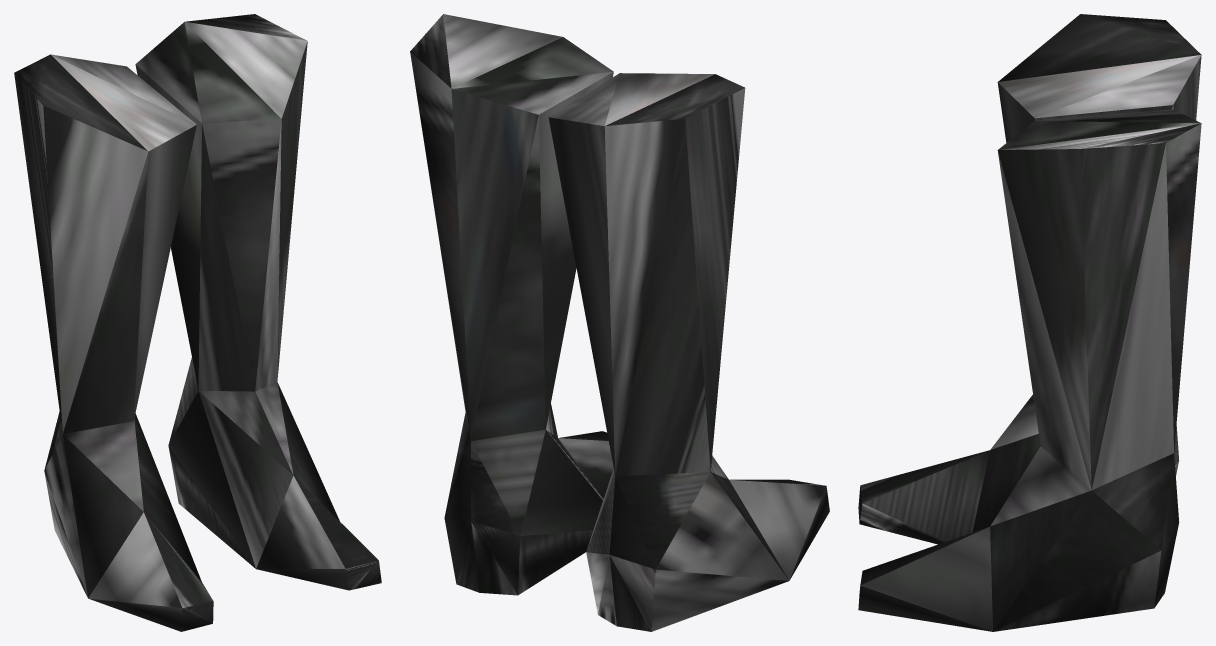
Rendered from f_Shoes3.glb.
3 renders of one model, left to right at view 1: azimuth 30°, elevation 25°; view 2: azimuth 150°, elevation 25°; view 3: azimuth 270°, elevation 25°, orthographic. The views are drawn at different scales.
Parts seen in each view (by area): view 1: Shoes3; view 2: Shoes3; view 3: Shoes3.
Part boxes in pixels (bbox=[...]): Shoes3: bbox=[14, 14, 381, 631]; Shoes3: bbox=[410, 14, 829, 631]; Shoes3: bbox=[858, 14, 1201, 631].
Size of the model in its own units: 14.4 by 24.1 by 15.47.
Materials: 1 (1 with a texture image).
